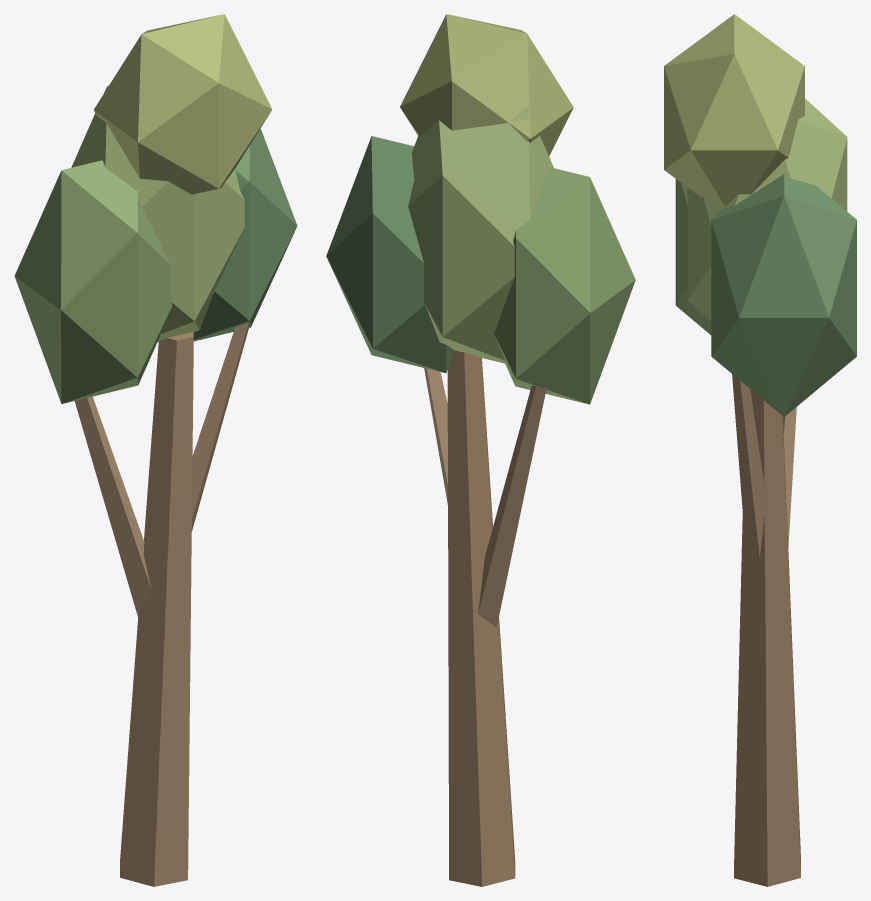
The picture shows the model from 3 angles, left to right: view 1: azimuth 30°, elevation 25°; view 2: azimuth 150°, elevation 25°; view 3: azimuth 270°, elevation 25°; orthographic projection. The views are drawn at different scales.
Visible parts, largest first — view 1: Body; view 2: Body; view 3: Body.
Part boxes in pixels (bbox=[...]): Body: bbox=[14, 14, 297, 886]; Body: bbox=[326, 14, 635, 886]; Body: bbox=[664, 14, 856, 886].
Bounding box in the file's own units: 2.09 × 6.73 × 1.4.
